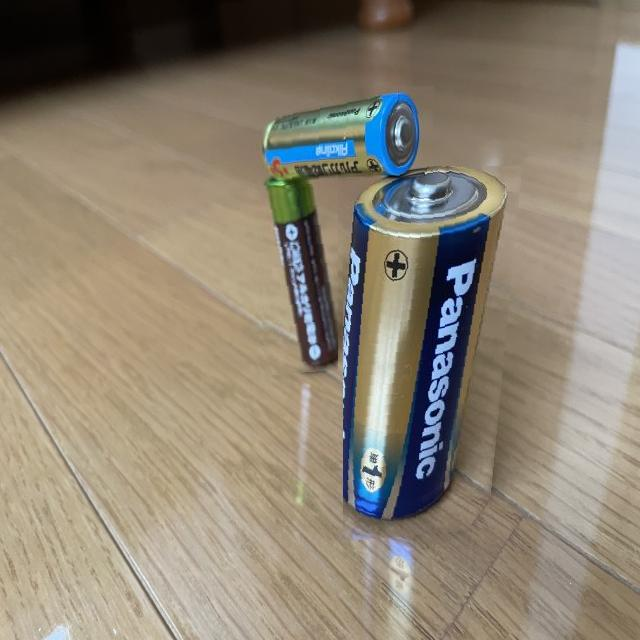battery: (343, 166, 524, 545), (252, 86, 434, 186), (254, 162, 338, 376)
